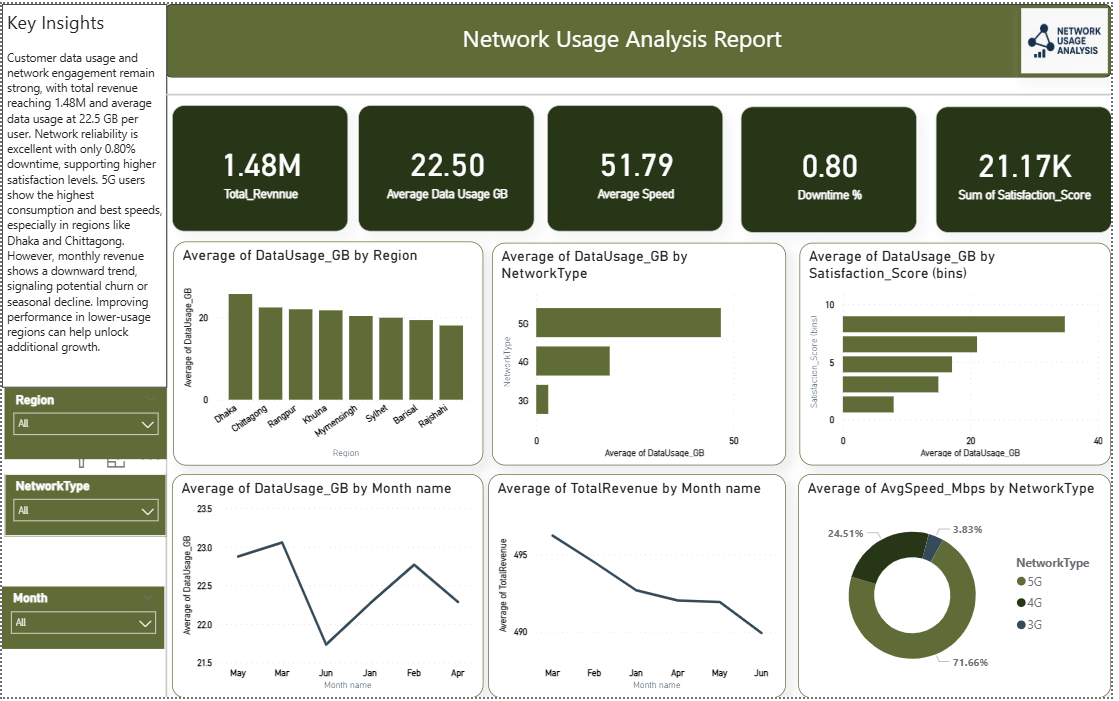

This screenshot's page, from the dashboard's own definition file:
{"tool":"powerbi","page":{"name":"Page 2","canvas":[1280,800],"ordinal":0},"visuals":[{"type":"shape","box":[187.4,0,1092.9,85.1],"z":0},{"type":"shape","box":[183.1,85.1,13,715.1],"z":1000},{"type":"image","box":[1170.7,0,109.6,85.1],"z":2000},{"type":"textbox","box":[526.2,15.9,393.6,54.8],"z":3000},{"type":"textbox","box":[0,0,190.3,442.6],"z":4000},{"type":"slicer","fields":{"Values":["Network_Usage_Data.NetworkType"]},"box":[2.9,542.1,187.4,72.1],"z":5000},{"type":"slicer","fields":{"Values":["Network_Usage_Data.Region"]},"box":[2.9,442.6,187.4,82.2],"z":6000},{"type":"slicer","fields":{"Values":["Date_Master.Month"]},"box":[0,671.9,187.4,72.1],"z":7000},{"type":"card","fields":{"Values":["Measure.T_Revnnue"]},"box":[196.1,116.8,203.3,145.6],"z":8000},{"type":"shape","box":[188.9,98,1090,13],"z":9000},{"type":"card","fields":{"Values":["Measure.Average Data Usage GB"]},"box":[410.9,116.8,203.3,145.6],"z":10000},{"type":"card","fields":{"Values":["Measure.Average Speed"]},"box":[628.6,116.8,203.3,145.6],"z":11000},{"type":"card","fields":{"Values":["Measure.Downtime %"]},"box":[852.1,118.2,203.3,145.6],"z":12000},{"type":"card","fields":{"Values":["Sum(Network_Usage_Data.Satisfaction_Score)"]},"box":[1077,118.2,203.3,145.6],"z":13000},{"type":"clusteredColumnChart","fields":{"Y":["Avg(Network_Usage_Data.DataUsage_GB)"],"Category":["Network_Usage_Data.Region"]},"box":[197.5,273.9,357.6,258.1],"z":14000},{"type":"clusteredBarChart","fields":{"Y":["Avg(Network_Usage_Data.DataUsage_GB)"],"Category":["Network_Usage_Data.NetworkType"]},"box":[565.2,275.4,338.8,256.6],"z":15000},{"type":"clusteredBarChart","fields":{"Y":["Avg(Network_Usage_Data.DataUsage_GB)"],"Category":["Network_Usage_Data.Satisfaction_Score (bins)"]},"box":[919.8,275.4,359,256.6],"z":16000},{"type":"lineChart","fields":{"Y":["Avg(Network_Usage_Data.DataUsage_GB)"],"Category":["Date_Master.Month name"]},"box":[196.1,542.1,359,258.1],"z":17000},{"type":"lineChart","fields":{"Category":["Date_Master.Month name"],"Y":["Avg(Network_Usage_Data.TotalRevenue)"]},"box":[560.8,542.1,343.1,258.1],"z":18000},{"type":"donutChart","fields":{"Y":["Avg(Network_Usage_Data.AvgSpeed_Mbps)"],"Category":["Network_Usage_Data.NetworkType"]},"box":[918.4,542.1,360.4,258.1],"z":19000}]}

Visuals, with their boxes in screenshot pixels (x1, y1, x2, y2), scaled from the page's 1280x800 canvas onto the 1119x701 screenshot:
shape: 164:0:1118:75
shape: 160:75:171:700
image: 1023:0:1118:75
textbox: 460:14:804:62
textbox: 0:0:166:388
slicer - Network_Usage_Data.NetworkType: 3:475:166:538
slicer - Network_Usage_Data.Region: 3:388:166:460
slicer - Date_Master.Month: 0:589:164:652
card - Measure.T_Revnnue: 171:102:349:230
shape: 165:86:1118:97
card - Measure.Average Data Usage GB: 359:102:537:230
card - Measure.Average Speed: 550:102:727:230
card - Measure.Downtime %: 745:104:923:231
card - Sum(Network_Usage_Data.Satisfaction_Score): 942:104:1118:231
clusteredColumnChart - Avg(Network_Usage_Data.DataUsage_GB) x Network_Usage_Data.Region: 173:240:485:466
clusteredBarChart - Avg(Network_Usage_Data.DataUsage_GB) x Network_Usage_Data.NetworkType: 494:241:790:466
clusteredBarChart - Avg(Network_Usage_Data.DataUsage_GB) x Network_Usage_Data.Satisfaction_Score (bins): 804:241:1118:466
lineChart - Avg(Network_Usage_Data.DataUsage_GB) x Date_Master.Month name: 171:475:485:700
lineChart - Date_Master.Month name x Avg(Network_Usage_Data.TotalRevenue): 490:475:790:700
donutChart - Avg(Network_Usage_Data.AvgSpeed_Mbps) x Network_Usage_Data.NetworkType: 803:475:1118:700
